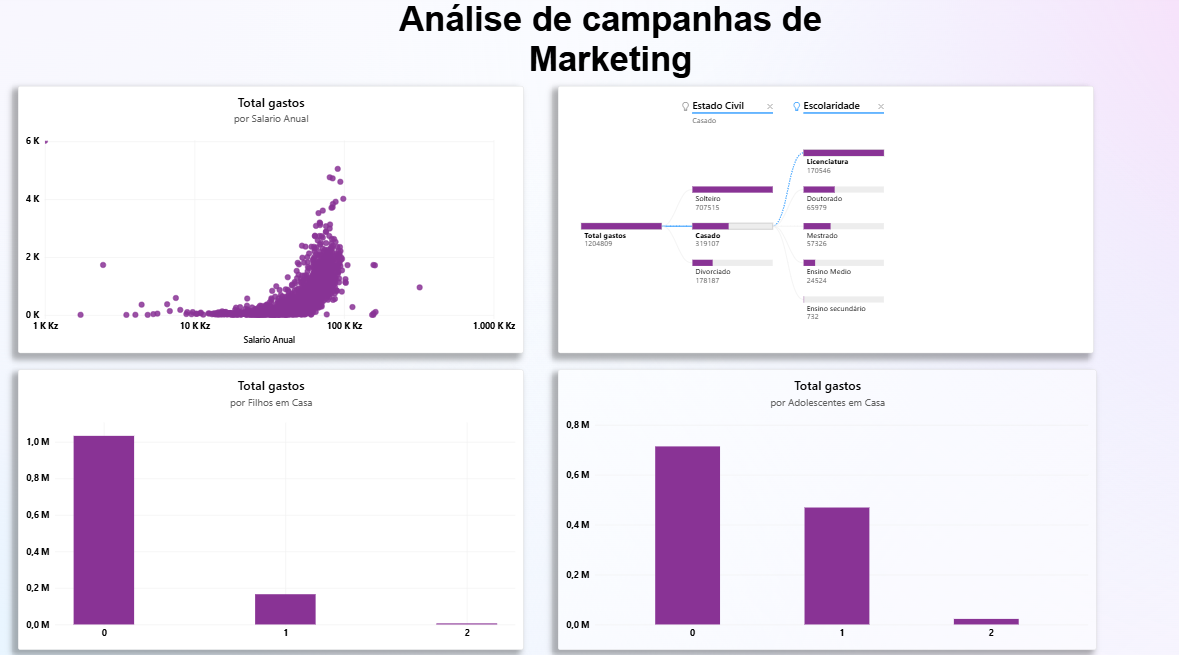

This screenshot's page, from the dashboard's own definition file:
{"tool":"powerbi","page":{"name":"Visão comportamento","canvas":[1920,1080],"ordinal":1},"visuals":[{"type":"scatterChart","fields":{"X":["DadosMarketing.Salario Anual"],"Y":["DadosMarketing.Total gastos"]},"box":[29.1,141.7,818.5,432.3],"z":0},{"type":"clusteredColumnChart","fields":{"Category":["DadosMarketing.Filhos em Casa"],"Y":["DadosMarketing.Total gastos"]},"box":[29.1,599.9,818.5,454.2],"z":1},{"type":"clusteredColumnChart","fields":{"Category":["DadosMarketing.Adolescentes em Casa"],"Y":["DadosMarketing.Total gastos"]},"box":[903.5,599.9,872,454.2],"z":2},{"type":"decompositionTreeVisual","fields":{"Analyze":["DadosMarketing.Total gastos"],"ExplainBy":["DadosMarketing.Estado Civil","DadosMarketing.Escolaridade"]},"box":[903.5,141.7,867.1,432.3],"z":3},{"type":"textbox","box":[548.9,0,879.2,140.9],"z":5}]}

Visuals, with their boxes in screenshot pixels (x1, y1, x2, y2), scaled from the page's 1920x1080 canvas onto the 1179x655 screenshot:
scatterChart - DadosMarketing.Salario Anual x DadosMarketing.Total gastos: <box>18,86,520,348</box>
clusteredColumnChart - DadosMarketing.Filhos em Casa x DadosMarketing.Total gastos: <box>18,364,520,639</box>
clusteredColumnChart - DadosMarketing.Adolescentes em Casa x DadosMarketing.Total gastos: <box>555,364,1090,639</box>
decompositionTreeVisual - DadosMarketing.Total gastos x DadosMarketing.Estado Civil: <box>555,86,1087,348</box>
textbox: <box>337,0,877,85</box>
